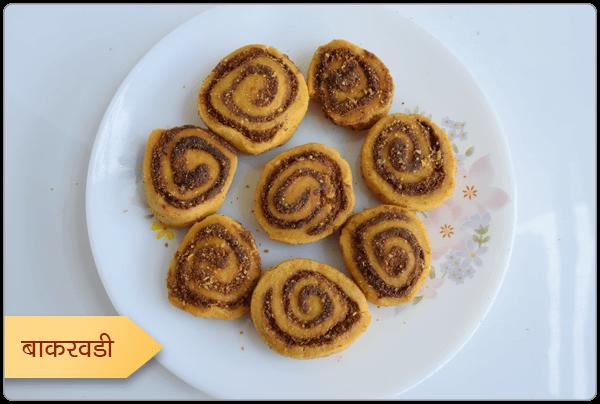bhakarwadi: (143, 40, 462, 355)
